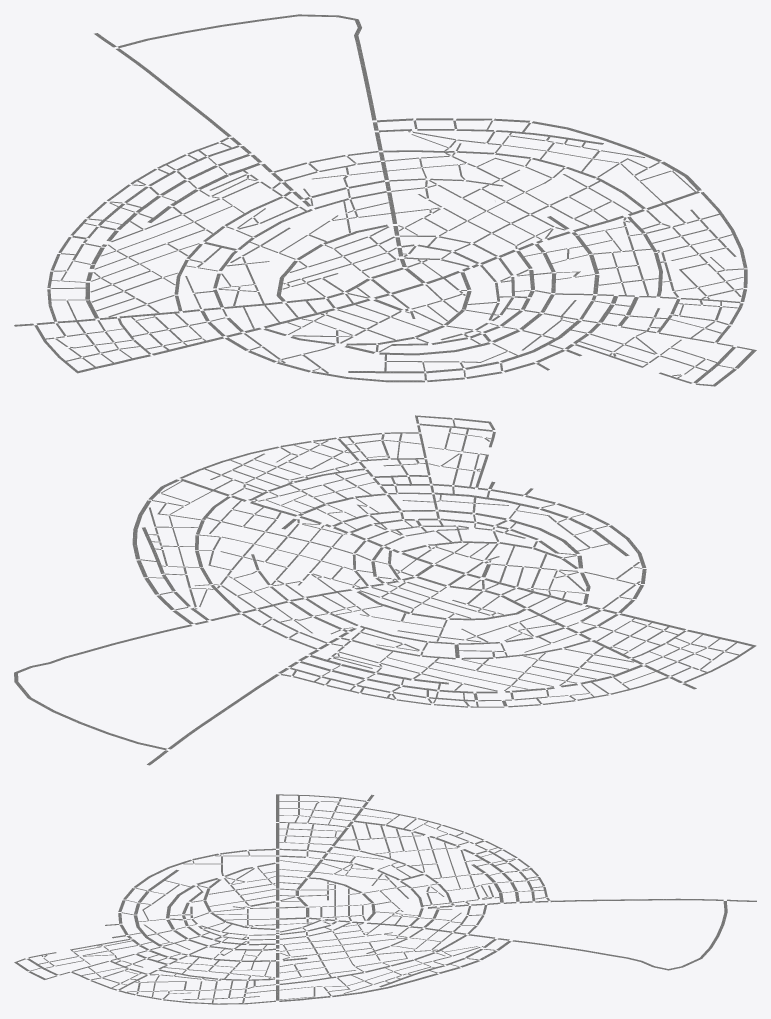
File: city_3d_model_37.glb
3 views of the same model, one above another, from view 1: azimuth 30°, elevation 25°; view 2: azimuth 150°, elevation 25°; view 3: azimuth 270°, elevation 25° (orthographic). The views are drawn at different scales.
Parts seen in each view (by area): view 1: Object_318; view 2: Object_318; view 3: Object_318.
Part boxes in pixels (x1,y1,x2,y2): Object_318: [14, 14, 756, 386]; Object_318: [14, 415, 756, 765]; Object_318: [14, 794, 756, 1004].
Size of the model in its own units: 769 by 42.53 by 1050.
Materials: 5 (1 with a texture image).
